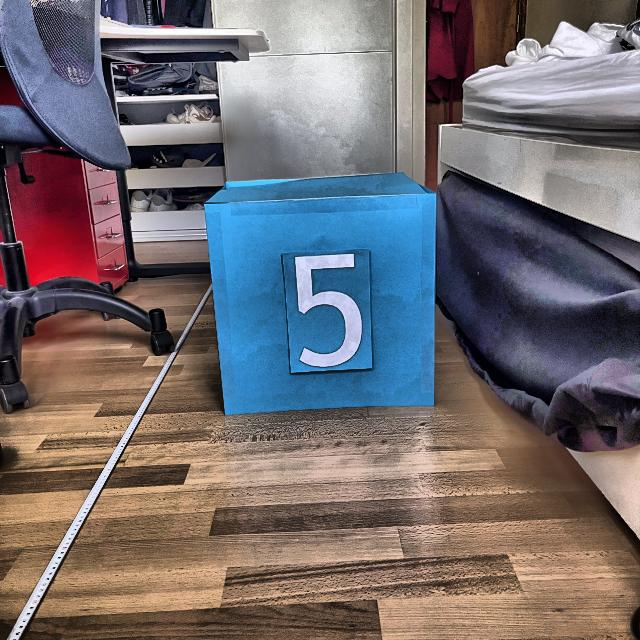blue box: (199, 168, 445, 422)
five: (287, 250, 368, 371)
